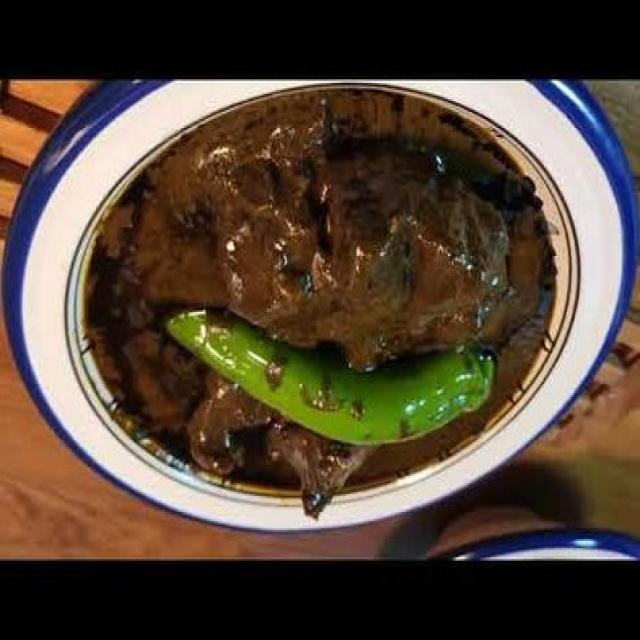Melloukhia: (0, 52, 588, 537)
